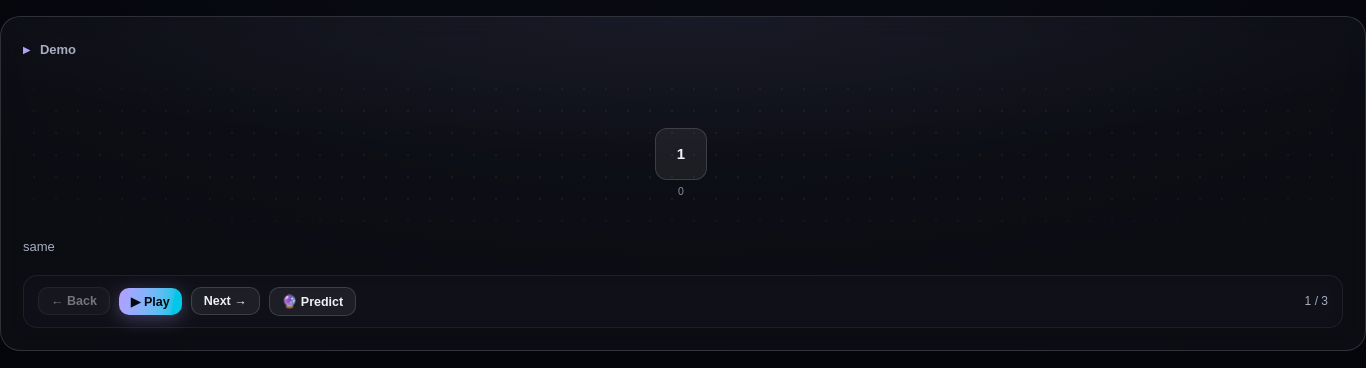
Test: (13) degenerate datasets do not crash › advances instead of asking when no distinguishable distractor exists
Click the button "🔮 Predict".
click(313, 301)  # box x1=269 y1=286 x2=356 y2=316
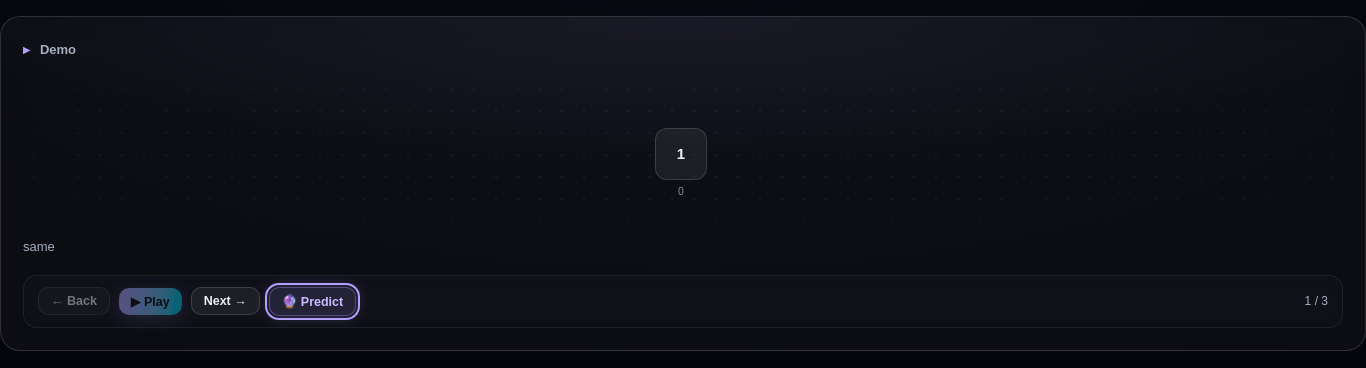
Click the button "Next →".
click(225, 301)  # box x1=191 y1=287 x2=260 y2=315
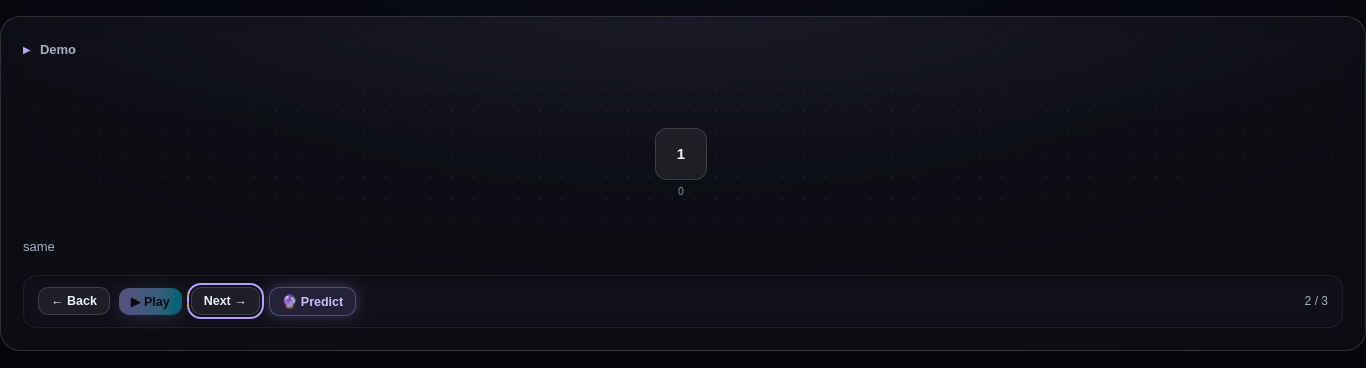
Now the text "2 / 3" is shown, box x1=1305 y1=290 x2=1328 y2=312
